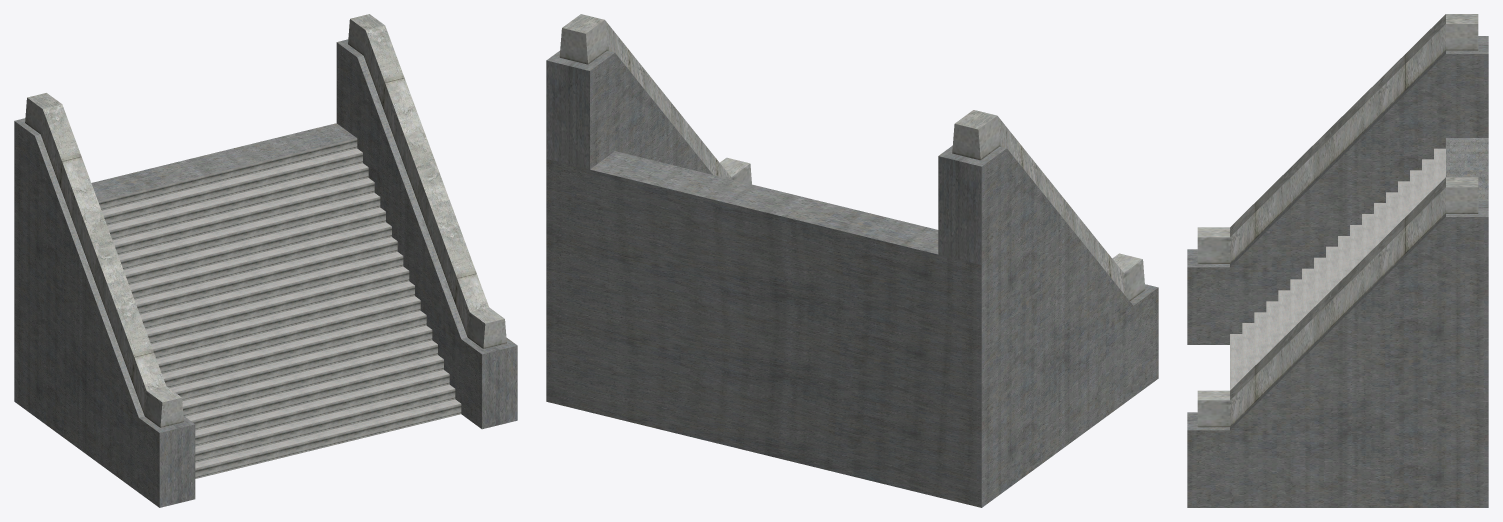
File: thm_corl_imprv_stair_small_s01_l0.fbx
3 renders of one model, left to right at view 1: azimuth 30°, elevation 25°; view 2: azimuth 150°, elevation 25°; view 3: azimuth 270°, elevation 25°, orthographic. The views are drawn at different scales.
Visible parts, largest first — view 1: mesh_node; view 2: mesh_node; view 3: mesh_node.
Part boxes in pixels (x1,y1,x2,y2): mesh_node: (14,14,517,507); mesh_node: (546,14,1158,507); mesh_node: (1187,14,1488,507).
Size of the model in its own units: 7.5 by 6.12 by 5.27.
